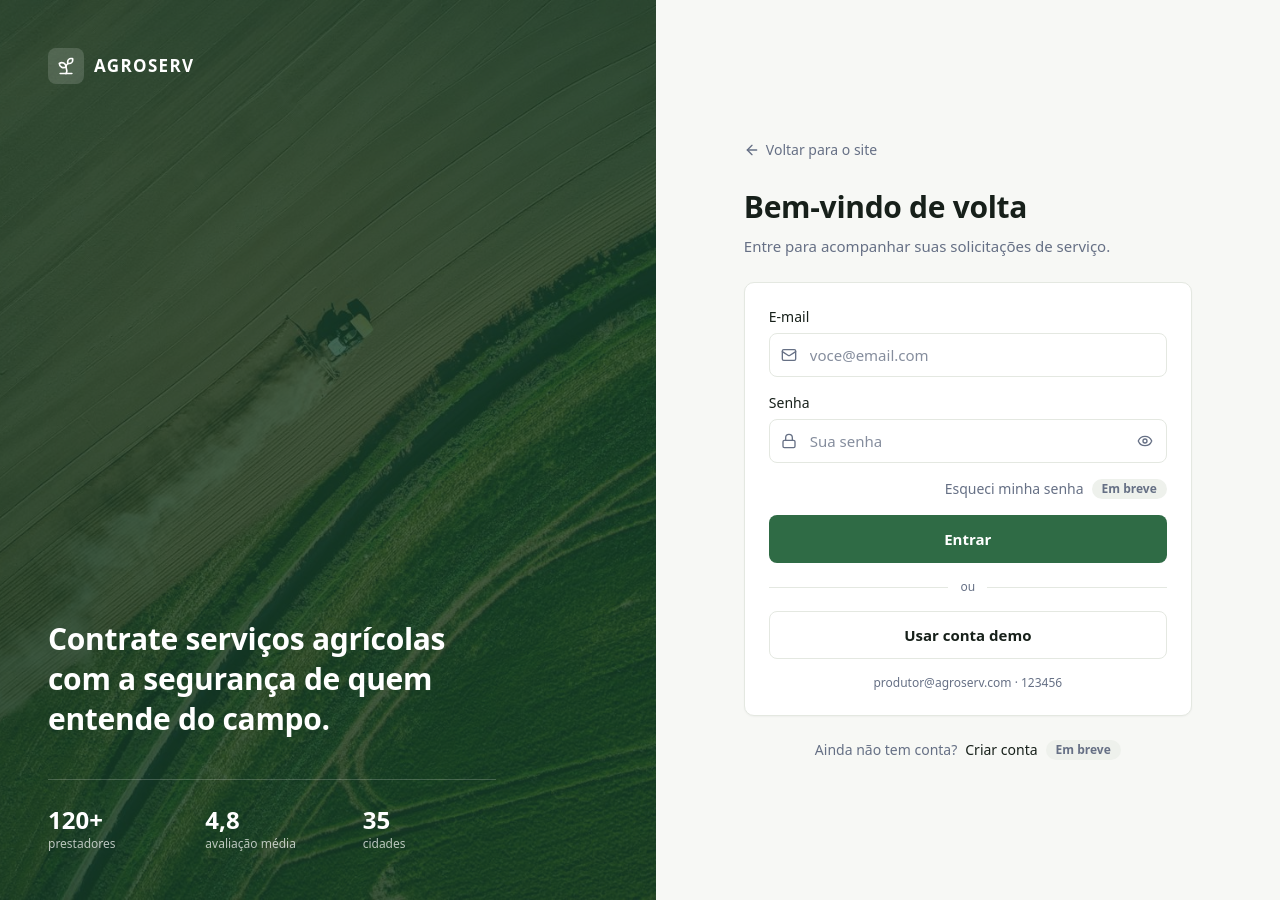
Test case: LoginPage › validates required fields and email format
Step 1. Click the button "Entrar" → (968, 539), box 769,515 -> 1167,563
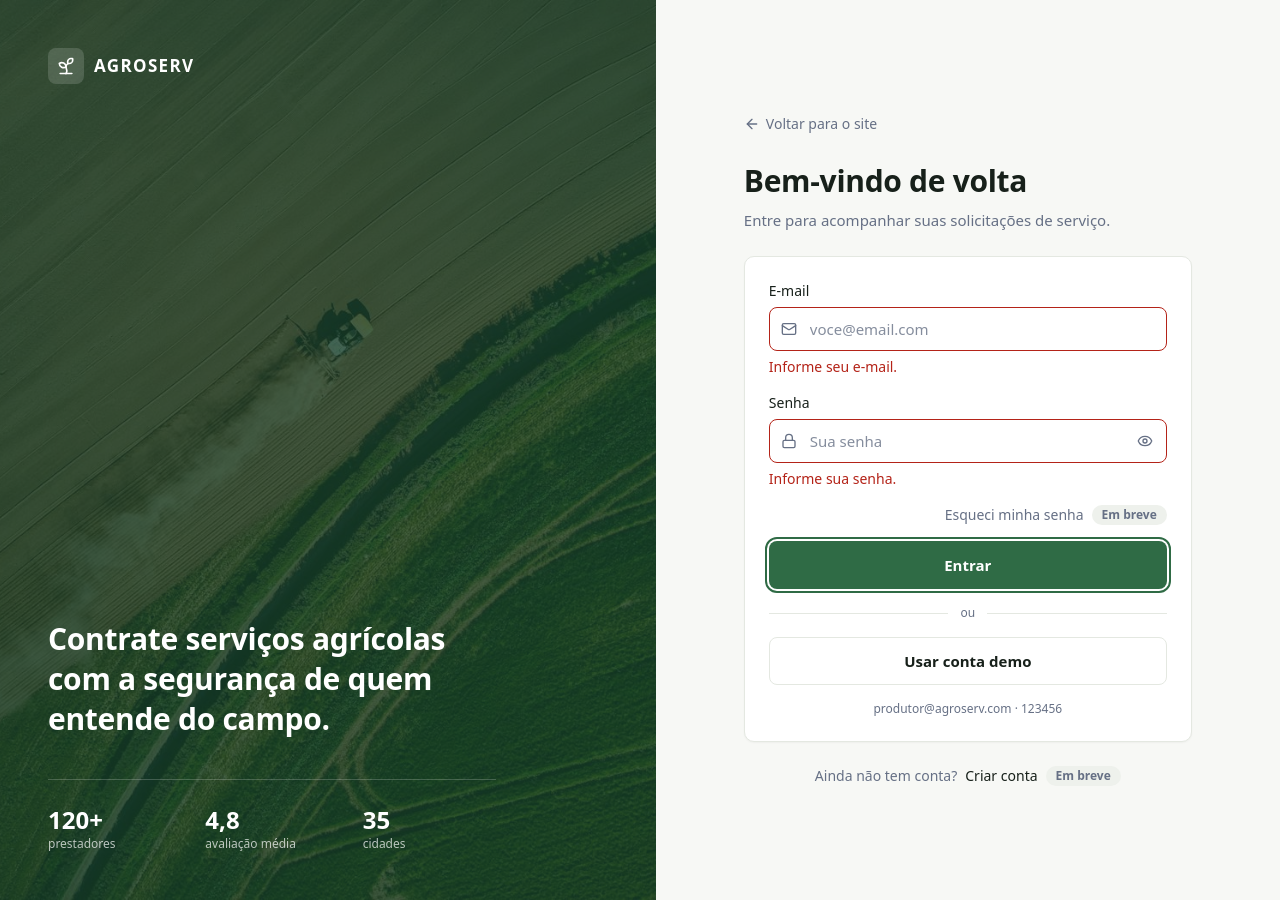
Expected: the text "Informe seu e-mail." is shown, 769,357 -> 897,376
Expected: the text "Informe sua senha." is shown, 769,469 -> 896,488
Step 2. Type "abc" into the field labelled "E-mail" → (968, 329), box 769,307 -> 1167,351
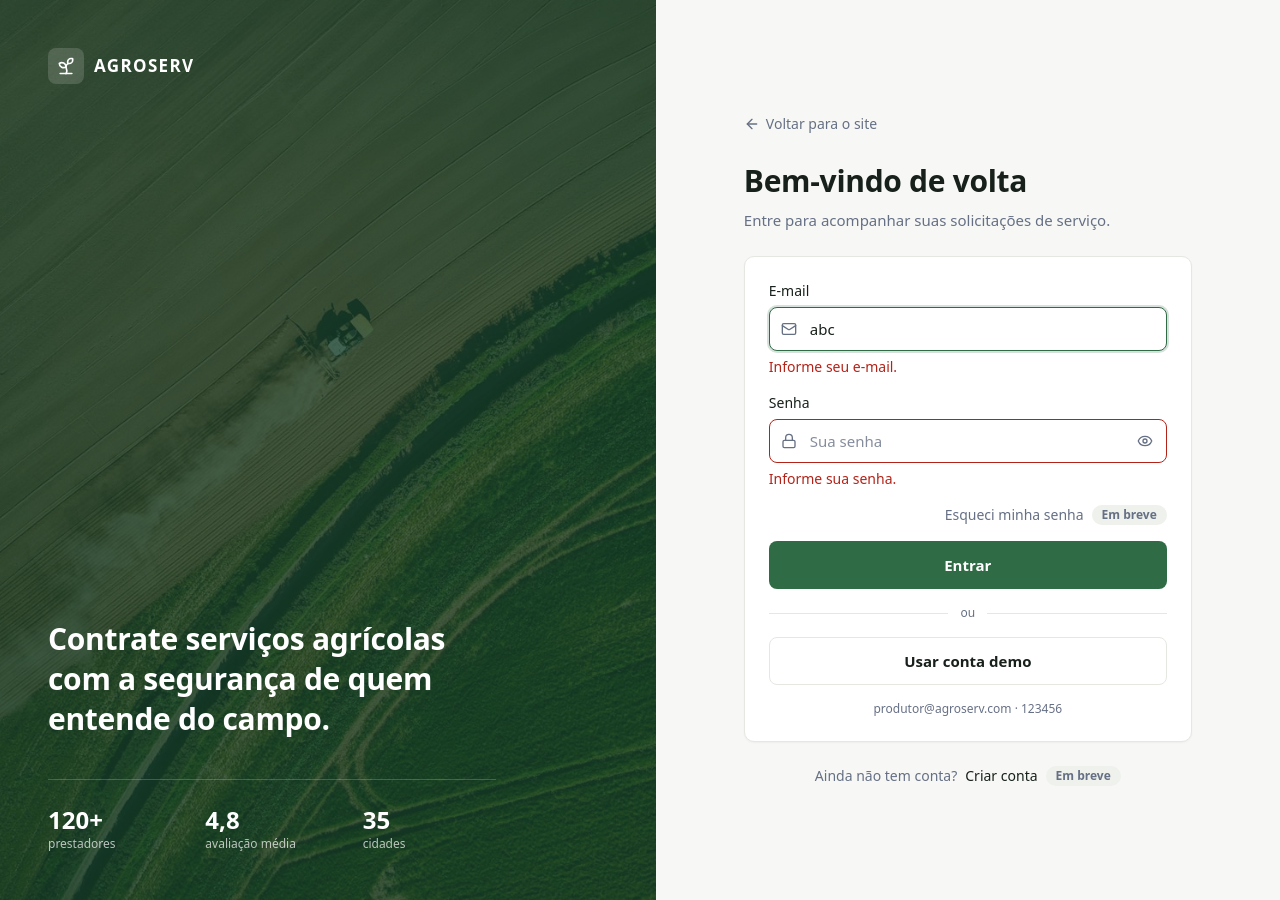
Step 3. Type "1" into the password field labelled "Senha" → (968, 441), box 769,419 -> 1167,463
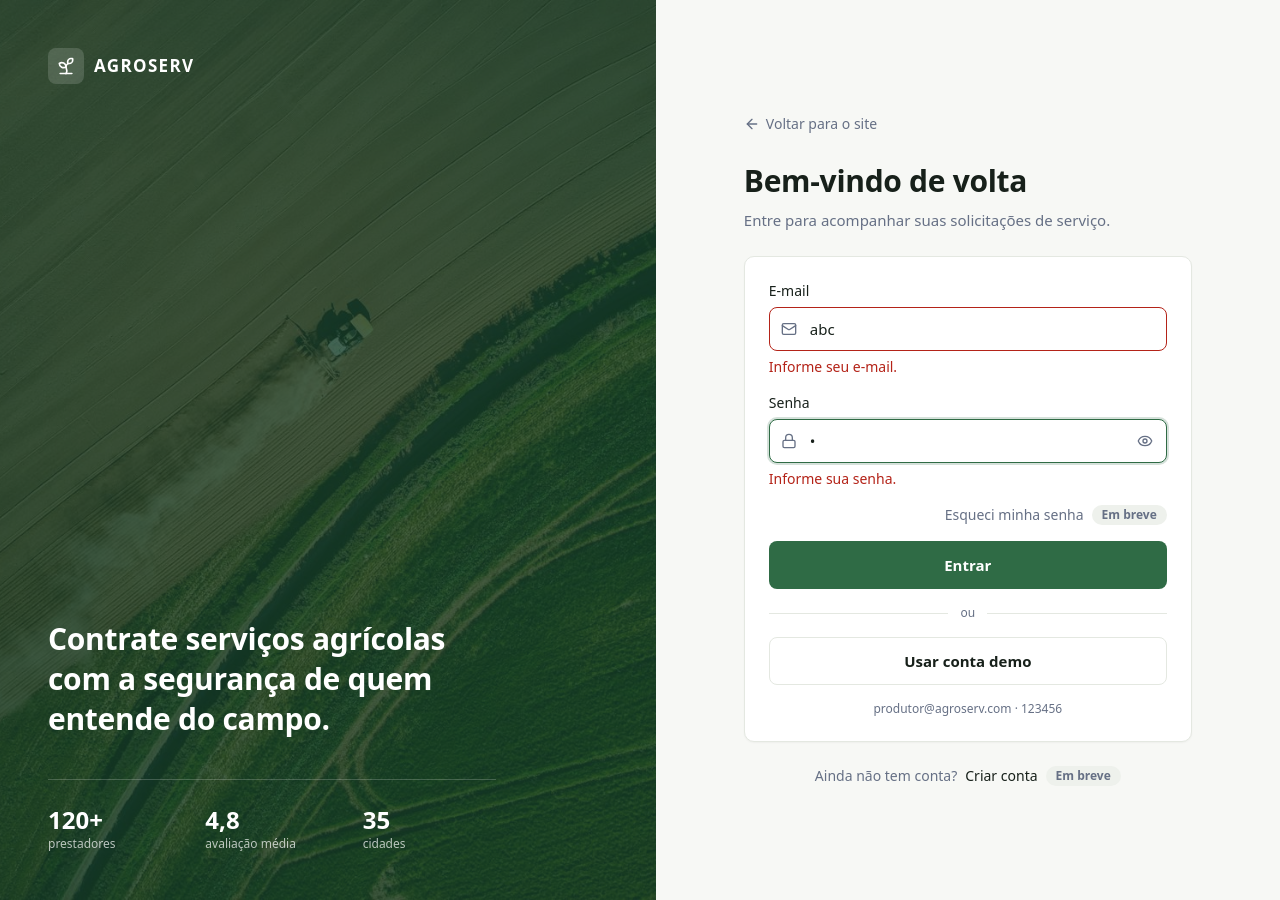
Step 4. Click the button "Entrar" → (968, 565), box 769,541 -> 1167,589
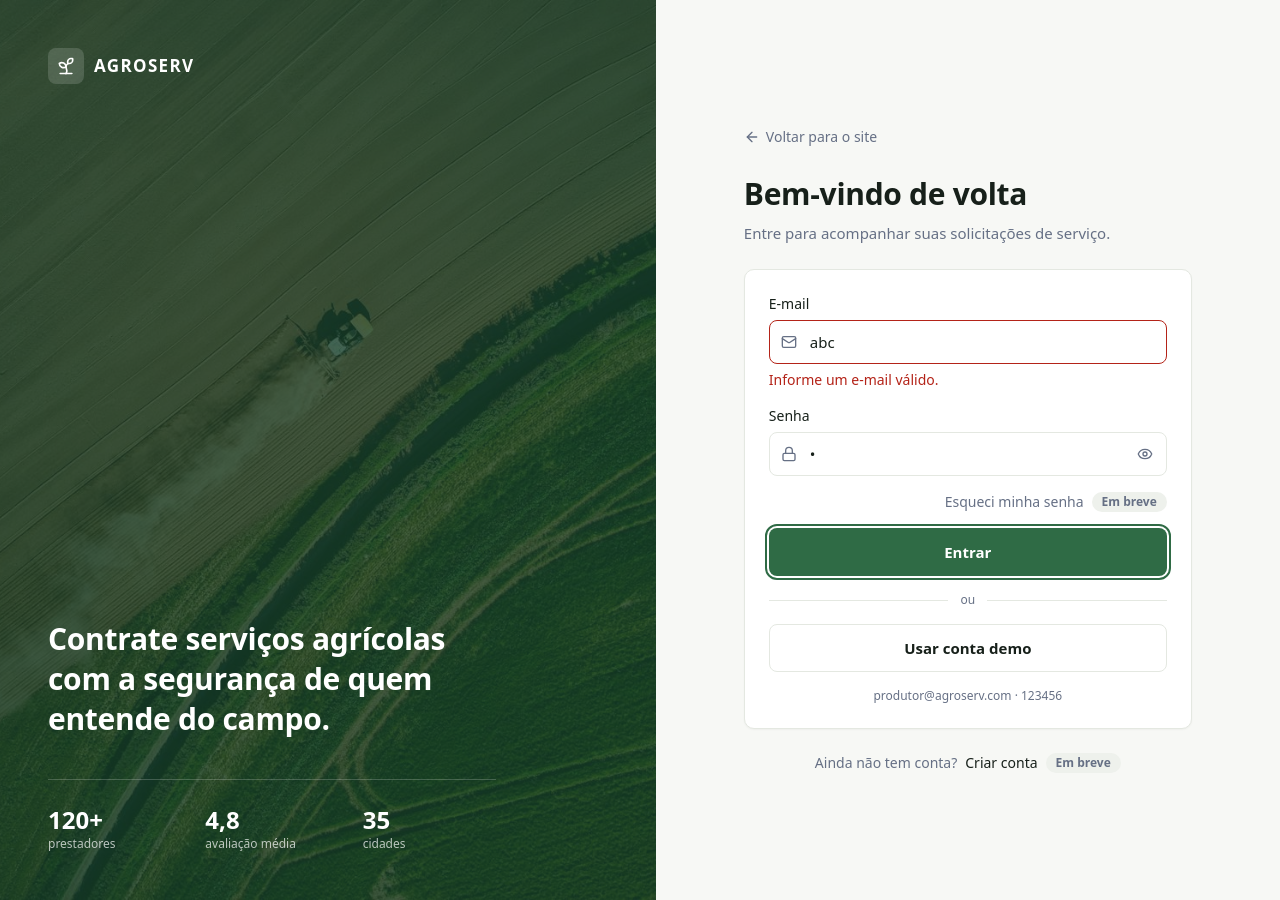
Expected: the text "Informe um e-mail válido." is shown, 769,370 -> 938,389
